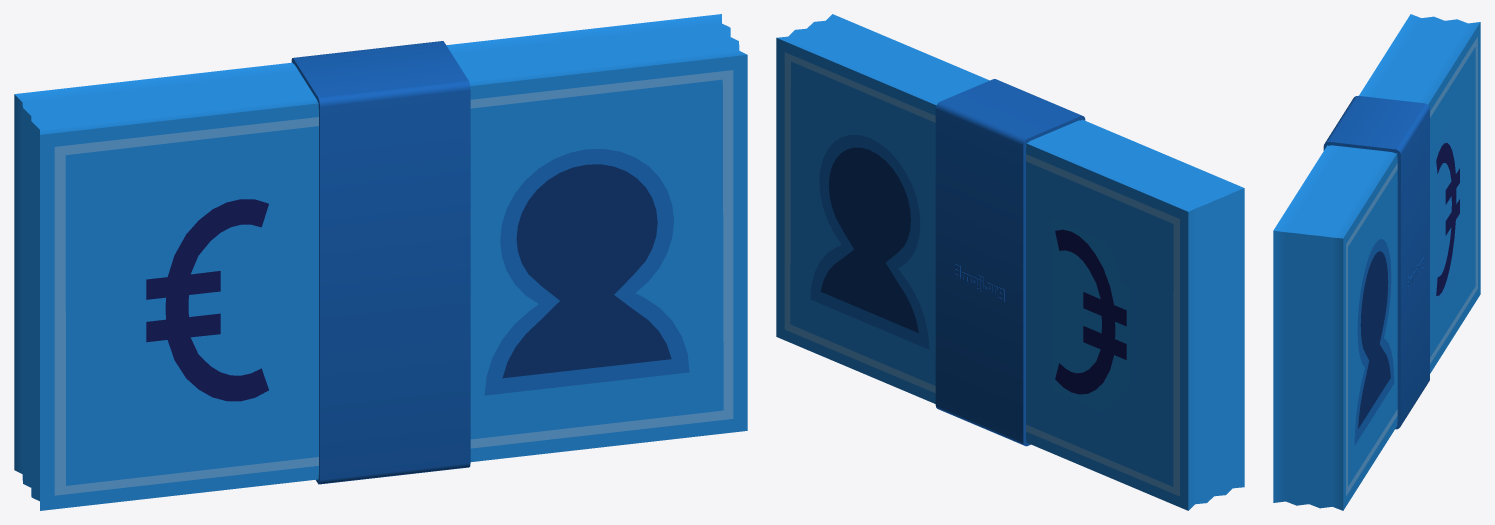
The model's file is euro_banknote.fbx.
The picture shows the model from 3 angles, left to right: view 1: azimuth 30°, elevation 25°; view 2: azimuth 150°, elevation 25°; view 3: azimuth 270°, elevation 25°; orthographic projection. The views are drawn at different scales.
Visible parts, largest first — view 1: Cube.956; view 2: Cube.956; view 3: Cube.956.
Part boxes in pixels (left/top/right/bottom): Cube.956: left=14, top=14, right=747, bottom=510; Cube.956: left=776, top=14, right=1244, bottom=510; Cube.956: left=1273, top=14, right=1480, bottom=510.
Size of the model in its own units: 220 by 128 by 85.86.
Materials: 1 (1 with a texture image).
